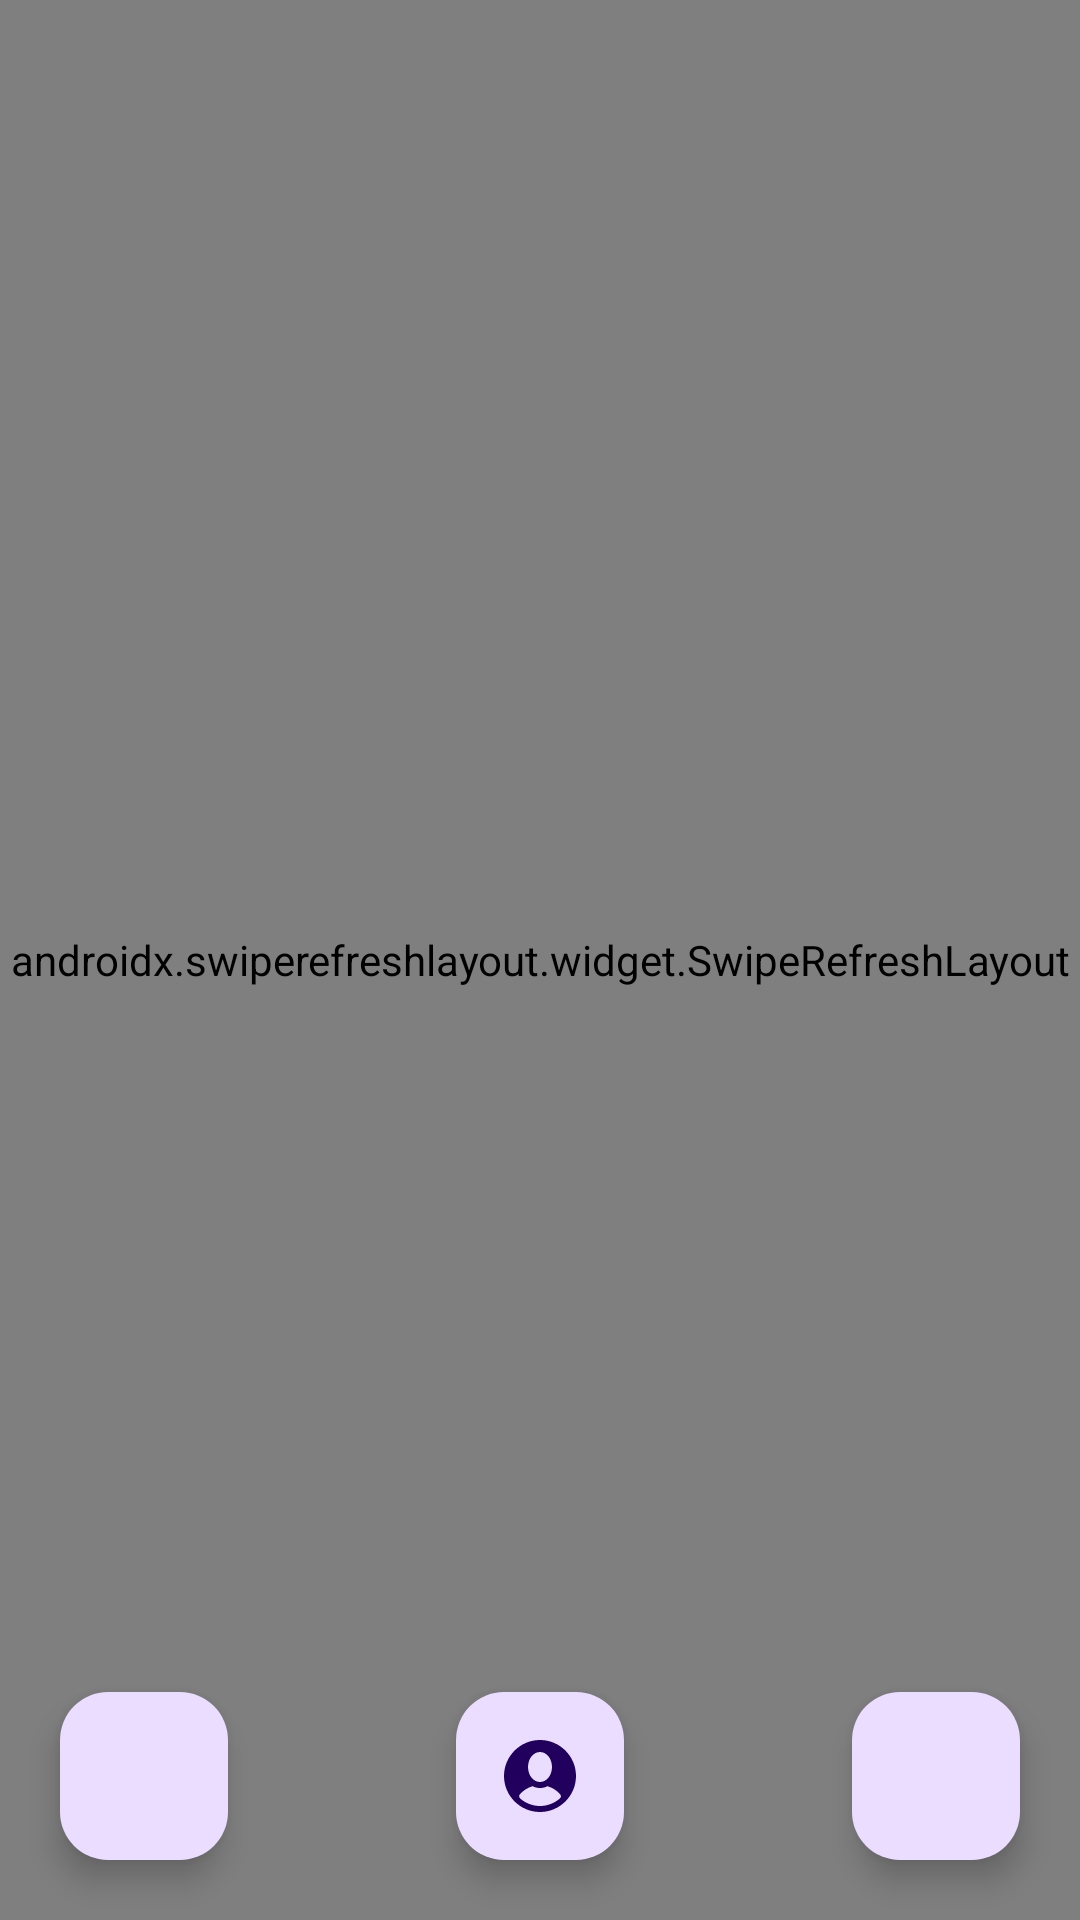

Point at icon controls on the screen. Image size 1080w x 1920h, points as point (x, y).
profile: point (540, 1776)
